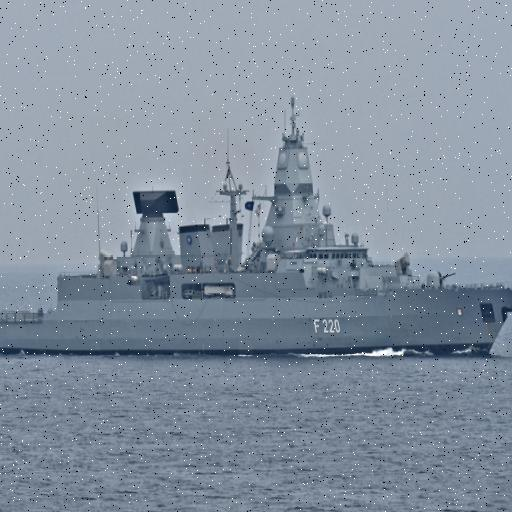Fragata: (1, 99, 512, 362)
